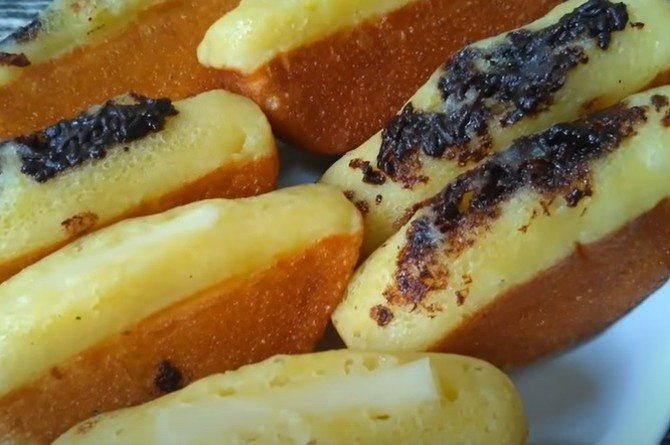pukis: (17, 170, 353, 412)
